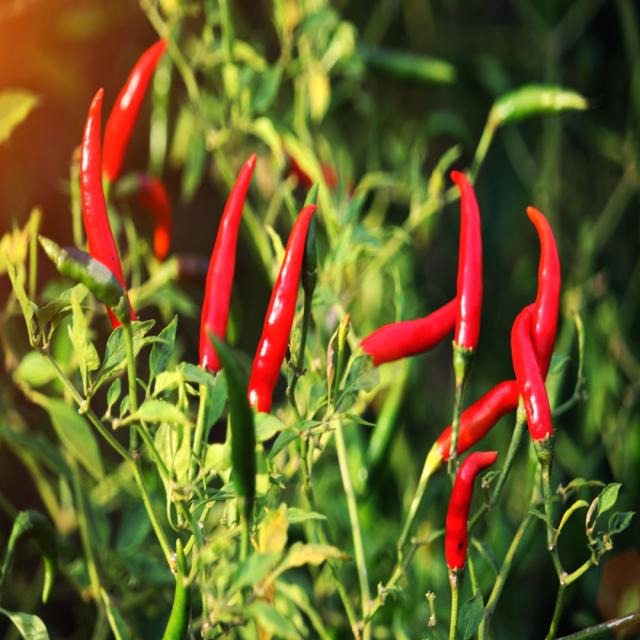Ripe: (248, 204, 316, 412), (199, 154, 256, 370), (102, 39, 168, 182), (80, 88, 126, 291), (361, 299, 456, 365), (445, 452, 498, 570), (511, 304, 552, 440), (451, 171, 482, 350), (528, 208, 560, 374), (458, 381, 520, 454)
Unripe: (40, 237, 129, 323), (162, 538, 190, 638)
